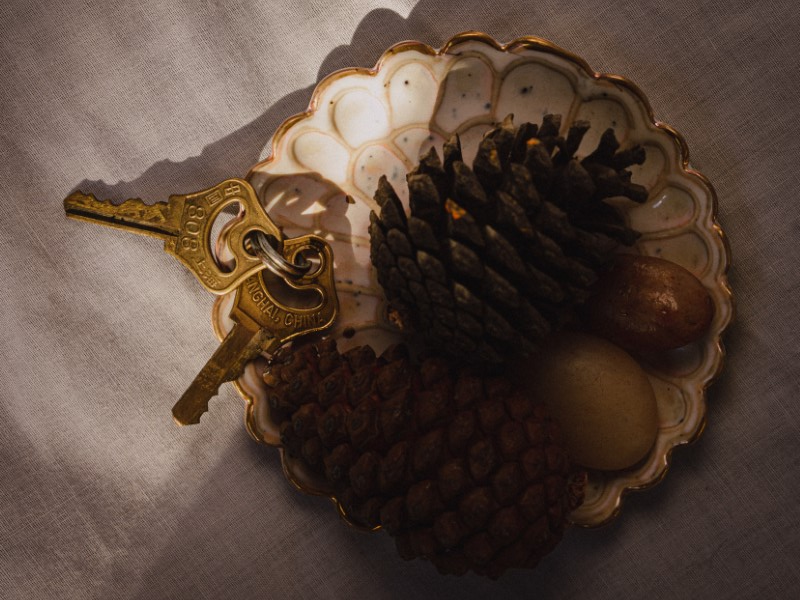key: (64, 173, 343, 430)
